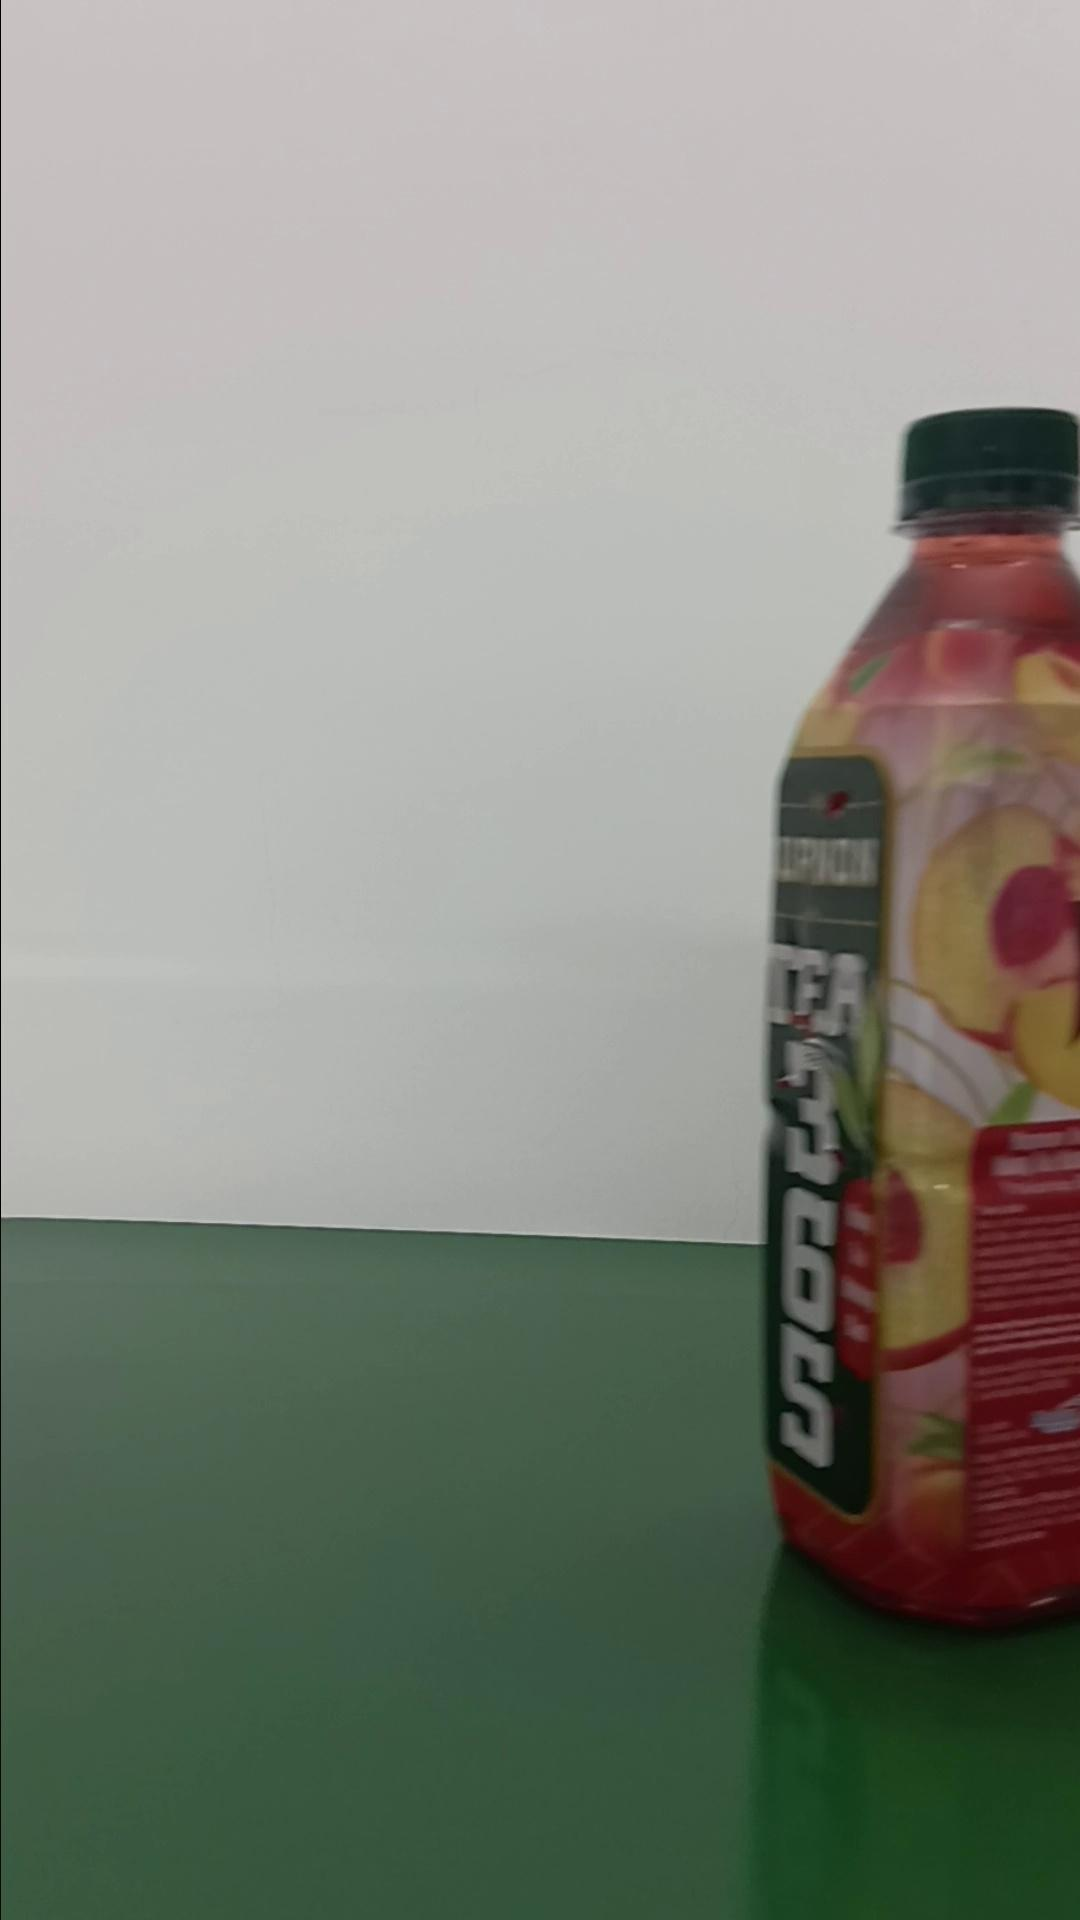loi rach va lap chai: (765, 398, 1080, 1639)
